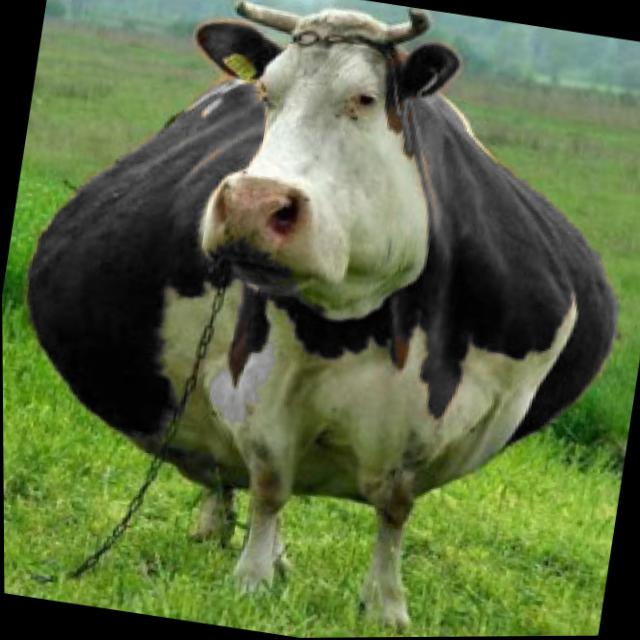cowFace: (152, 0, 471, 323)
